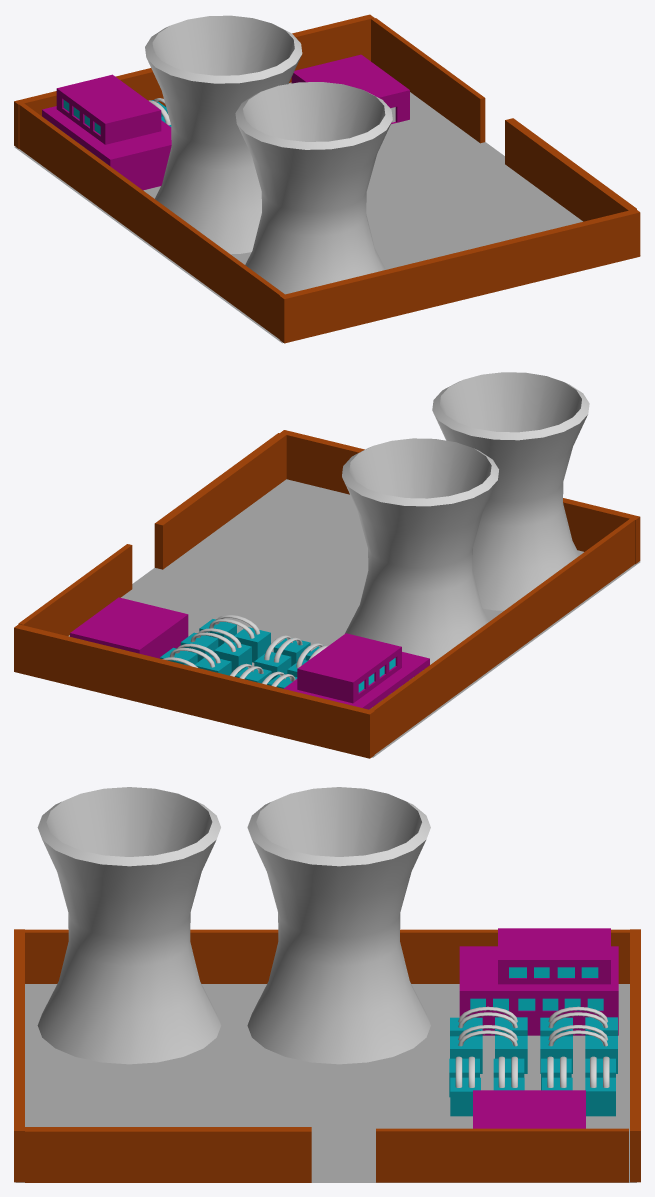
Rendered from NuclearPowerPlant.fbx.
3 renders of one model, top to bottom at view 1: azimuth 30°, elevation 25°; view 2: azimuth 150°, elevation 25°; view 3: azimuth 270°, elevation 25°, orthographic. The views are drawn at different scales.
Parts seen in each view (by area): view 1: pPlane2; view 2: pPlane2; view 3: pPlane2.
Part boxes in pixels (x1,y1,x2,y2): pPlane2: (14,14,640,343); pPlane2: (14,372,640,758); pPlane2: (14,787,640,1182).
Bounding box in the file's own units: 29.39 × 13.75 × 38.36.
